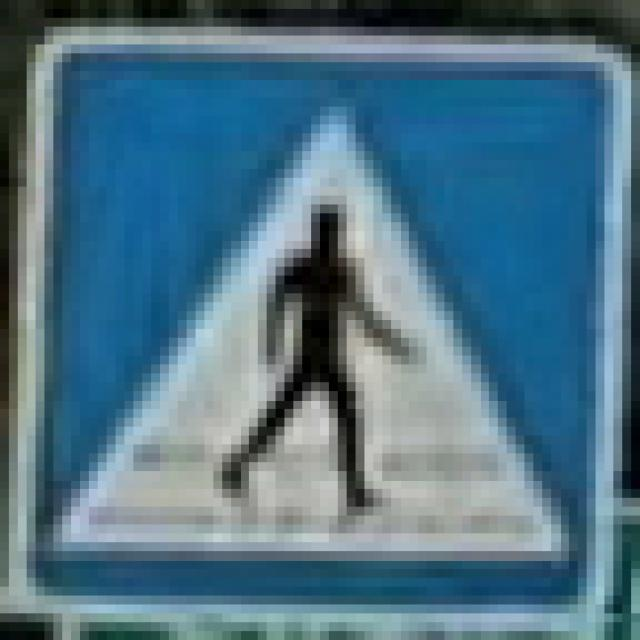zebracrossing_sign: (5, 18, 627, 614)
